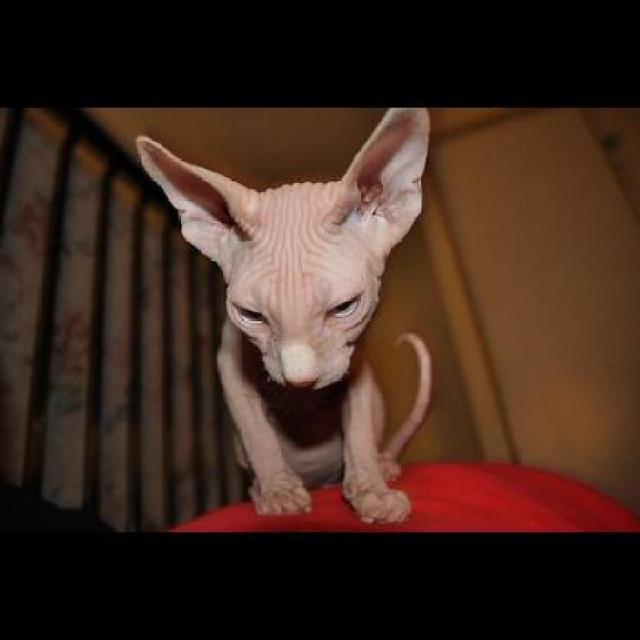unauthorized: (134, 106, 434, 525)
